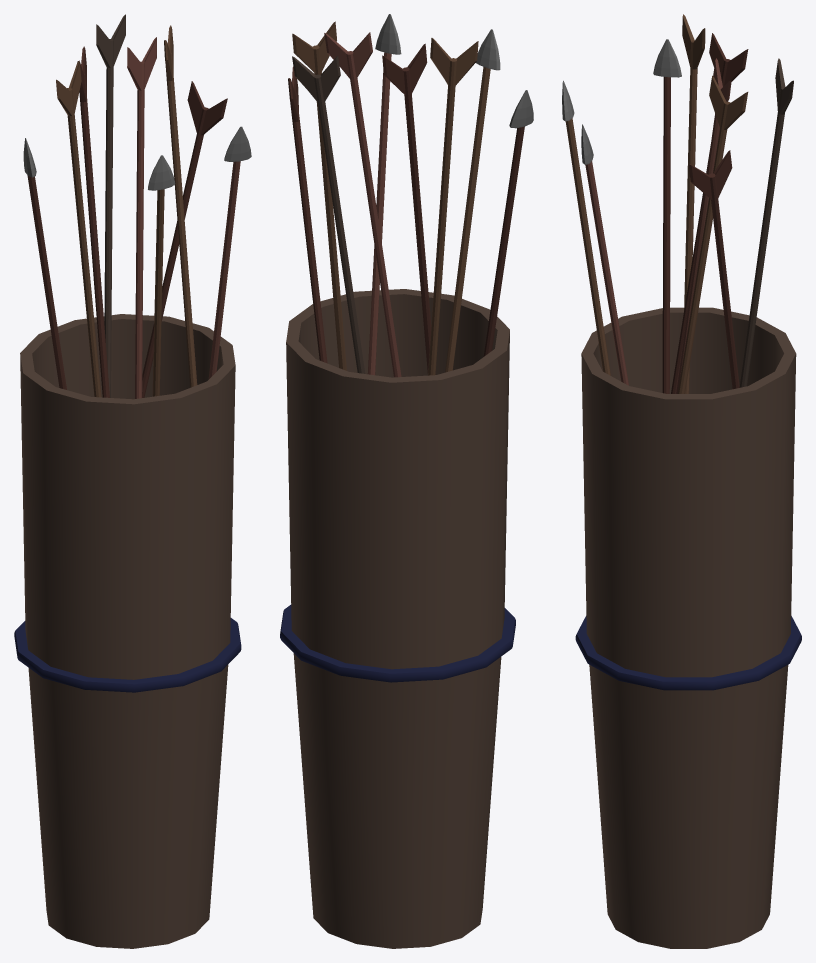
File: Freccie.fbx
The picture shows the model from 3 angles, left to right: view 1: azimuth 30°, elevation 25°; view 2: azimuth 150°, elevation 25°; view 3: azimuth 270°, elevation 25°; orthographic projection. The views are drawn at different scales.
Parts seen in each view (by area): view 1: Cylinder.037, Cylinder.046, Cylinder.040, Cylinder.039, Cylinder.047, Cylinder.048, Cylinder.042, Cylinder.043, Cylinder.044, Cylinder.045; view 2: Cylinder.037, Cylinder.046, Cylinder.039, Cylinder.040, Cylinder.048, Cylinder.044, Cylinder.047, Cylinder.043, Cylinder.045, Cylinder.042; view 3: Cylinder.037, Cylinder.045, Cylinder.047, Cylinder.040, Cylinder.042, Cylinder.039, Cylinder.044, Cylinder.043, Cylinder.048, Cylinder.046.
Part boxes in pixels (box(x1,y1,x2,y2)): Cylinder.037: box(14, 314, 241, 948); Cylinder.046: box(127, 37, 156, 398); Cylinder.040: box(96, 14, 125, 397); Cylinder.039: box(56, 60, 101, 397); Cylinder.047: box(164, 25, 197, 387); Cylinder.048: box(77, 46, 109, 397); Cylinder.042: box(142, 81, 227, 397); Cylinder.043: box(208, 126, 251, 379); Cylinder.044: box(148, 155, 175, 396); Cylinder.045: box(23, 138, 66, 389); Cylinder.037: box(280, 289, 515, 948); Cylinder.046: box(324, 32, 401, 377); Cylinder.039: box(428, 38, 478, 375); Cylinder.040: box(292, 56, 365, 373); Cylinder.048: box(382, 43, 431, 373); Cylinder.044: box(445, 29, 500, 372); Cylinder.047: box(292, 21, 346, 370); Cylinder.043: box(367, 14, 401, 375); Cylinder.045: box(483, 90, 533, 356); Cylinder.042: box(288, 66, 327, 363); Cylinder.037: box(575, 307, 801, 948); Cylinder.045: box(653, 39, 681, 393); Cylinder.047: box(677, 75, 748, 393); Cylinder.040: box(739, 58, 793, 387); Cylinder.042: box(688, 150, 739, 389); Cylinder.039: box(682, 14, 705, 393); Cylinder.044: box(562, 80, 610, 375); Cylinder.043: box(581, 124, 628, 385); Cylinder.048: box(671, 33, 748, 393); Cylinder.046: box(676, 58, 731, 393).
Bounding box in the file's own units: 67.5 × 258 × 64.69.
